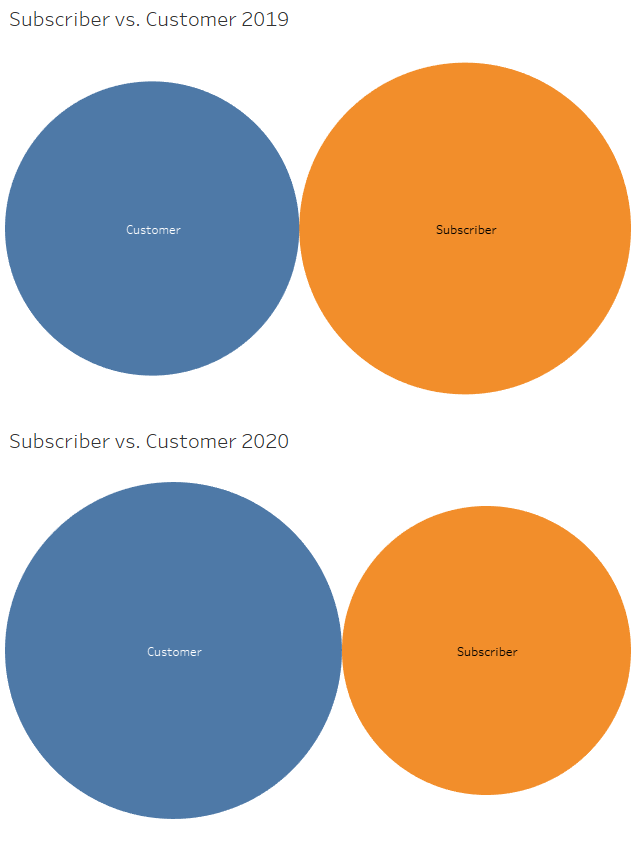

This screenshot's page, from the dashboard's own definition file:
{"tool":"tableau","page":{"name":"Dashboard-Subscriber vs Customer","canvas":[650,860],"ordinal":5},"visuals":[{"type":"worksheet","box":[0,0,650,860]},{"type":"worksheet","title":"Subscriber vs. Customer 2019","mark":"Circle","box":[8,8,634,422]},{"type":"worksheet","title":"Subscriber vs. Customer 2020","mark":"Circle","box":[8,430,634,422]}]}

Visuals, with their boxes in screenshot pixels (x1, y1, x2, y2), scaled from the page's 650x860 canvas onto the 643x841 screenshot:
worksheet: 0, 0, 642, 840
"Subscriber vs. Customer 2019" worksheet (Circle marks): 8, 8, 635, 420
"Subscriber vs. Customer 2020" worksheet (Circle marks): 8, 420, 635, 833
